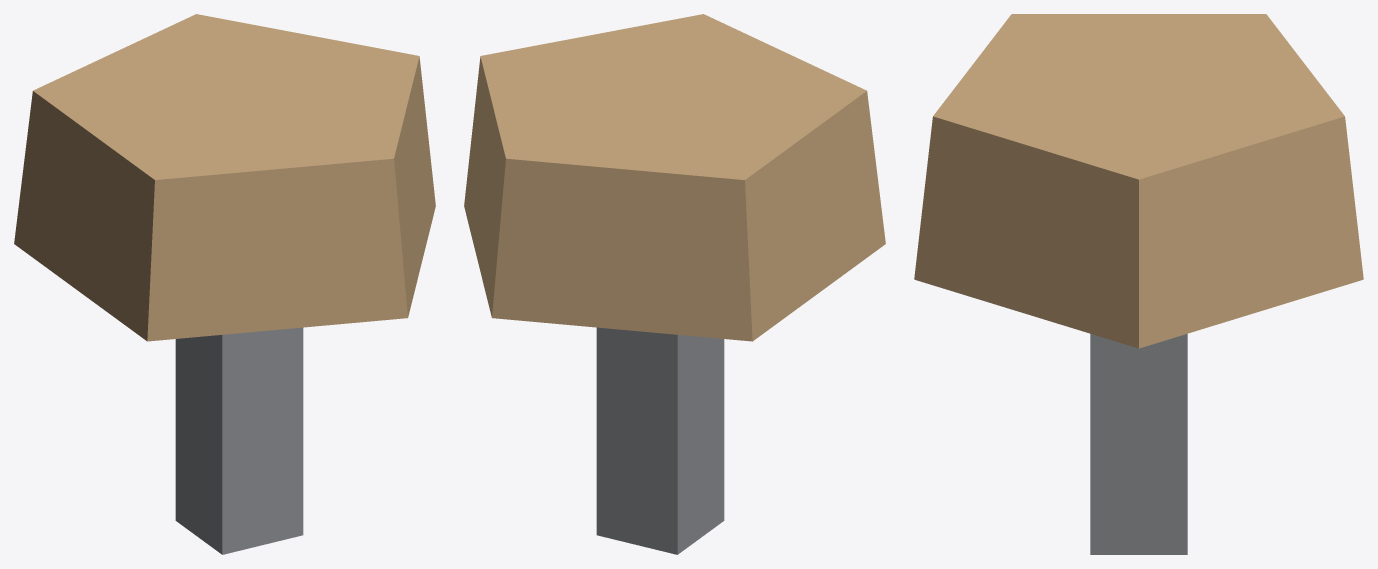
Rendered from prop-mortise-gauge-thumbscrew-mg1.fbx.
3 renders of one model, left to right at view 1: azimuth 30°, elevation 25°; view 2: azimuth 150°, elevation 25°; view 3: azimuth 270°, elevation 25°, orthographic. The views are drawn at different scales.
Visible parts, largest first — view 1: prop-mortise-gauge-thumbscrew-mg1; view 2: prop-mortise-gauge-thumbscrew-mg1; view 3: prop-mortise-gauge-thumbscrew-mg1.
Part boxes in pixels (bbox=[...]): prop-mortise-gauge-thumbscrew-mg1: bbox=[14, 14, 435, 554]; prop-mortise-gauge-thumbscrew-mg1: bbox=[464, 14, 885, 554]; prop-mortise-gauge-thumbscrew-mg1: bbox=[914, 14, 1363, 554].
Size of the model in its own units: 2.17 by 2.5 by 2.28.
